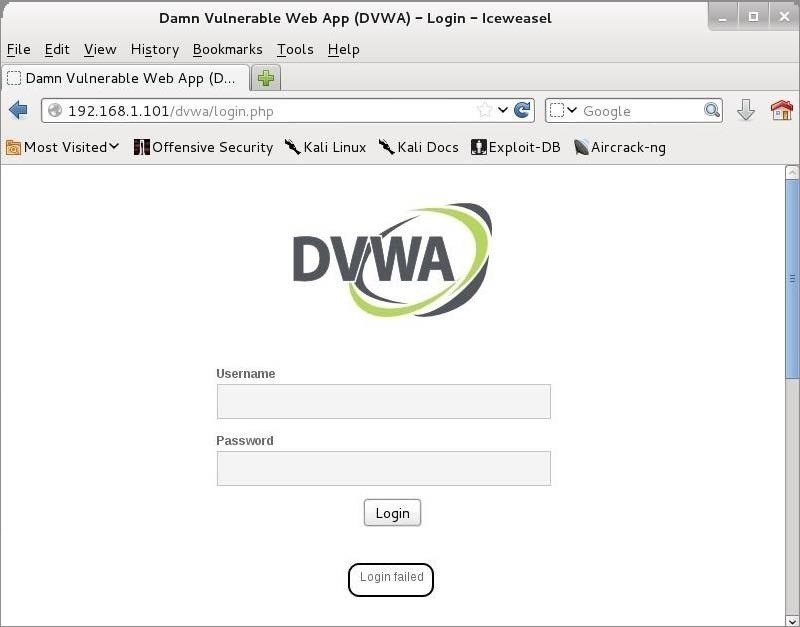_form_: (156, 193, 572, 609)
button: (348, 561, 437, 598), (362, 498, 422, 528)
field: (215, 382, 553, 421), (215, 450, 552, 487)
field_with_label: (212, 367, 555, 424), (212, 433, 555, 489)
